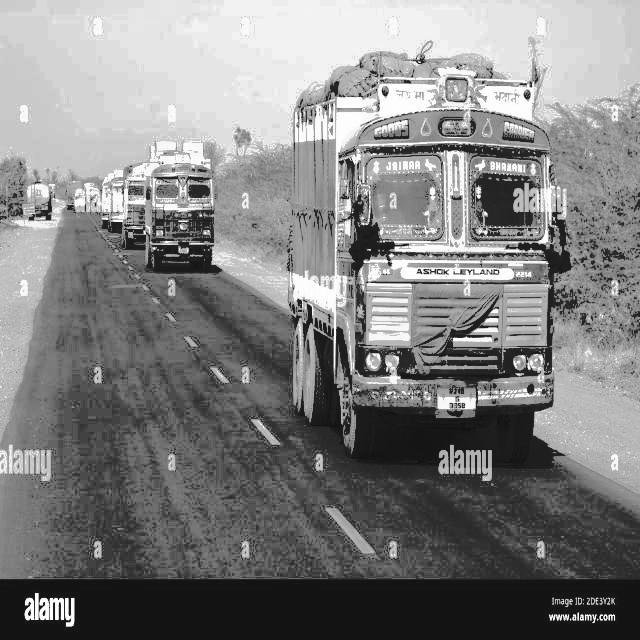HCV: (279, 31, 593, 489), (140, 122, 227, 292)
